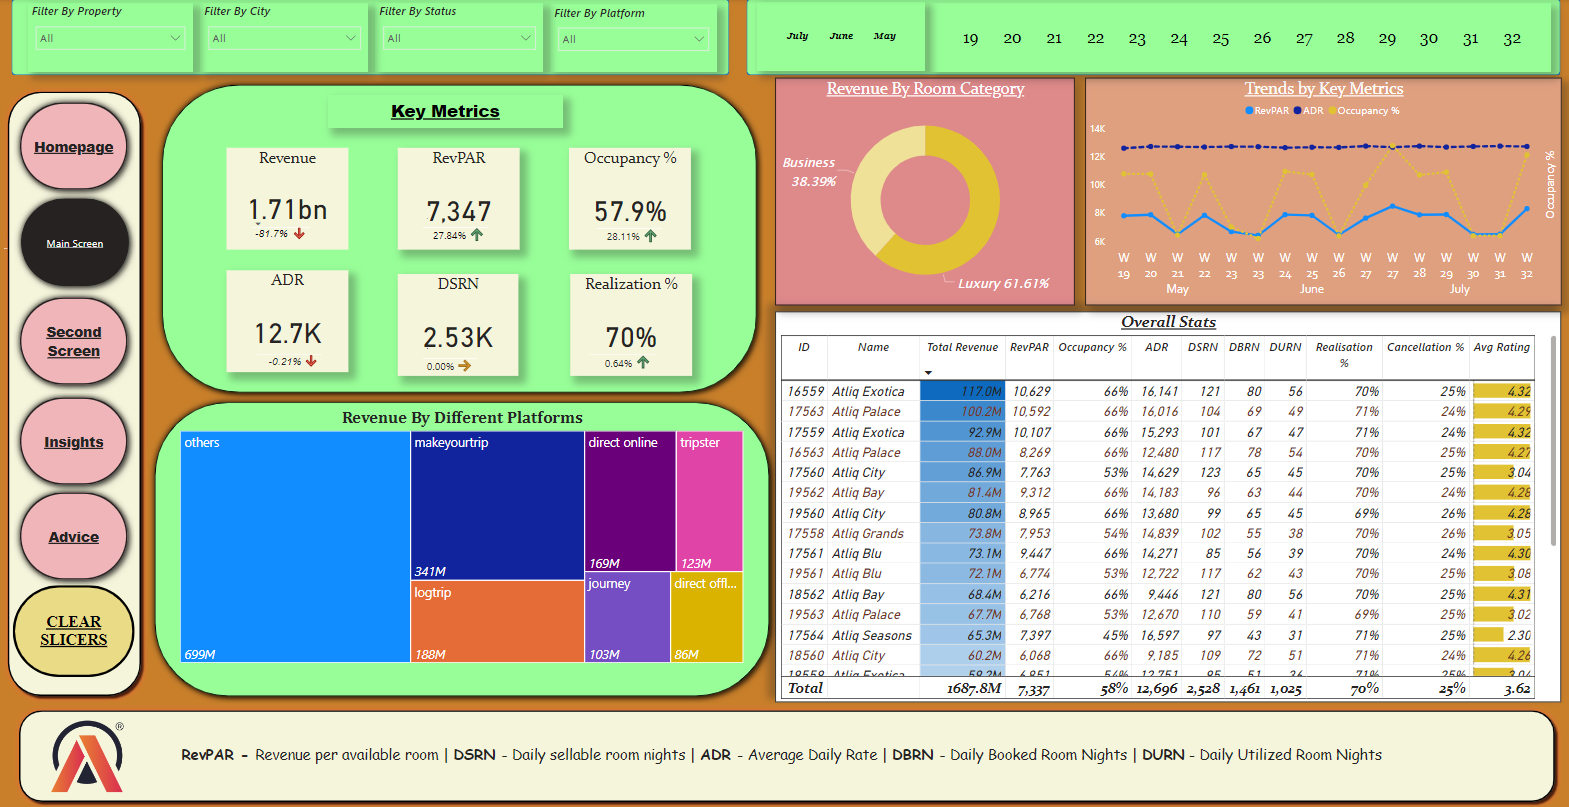

This screenshot's page, from the dashboard's own definition file:
{"tool":"powerbi","page":{"name":"Main Screen","canvas":[2010,1035],"ordinal":1},"visuals":[{"type":"slicer","title":"Filter By City","fields":{"Values":["dim_hotels.city"]},"box":[257.1,5.5,215.3,88.3],"z":0,"group":"g2"},{"type":"tableEx","title":"Overall Stats","fields":{"Values":["dim_hotels.property_id","dim_hotels.property_name","Key Measures.Total Revenue","Key Measures.RevPAR","Key Measures.Occupancy %","Key Measures.ADR","Key Measures.DSRN","Key Measures.DBRM","Key Measures.DURN","Key Measures.Realisation %","Key Measures.Cancellation %","Key Measures.Avg Rating"]},"box":[994.1,400.5,1005.3,500.3],"z":0,"group":"g3"},{"type":"slicer","title":"Filter By Property","fields":{"Values":["dim_hotels.property_name"]},"box":[36.8,5.5,211.7,88.3],"z":1000,"group":"g2"},{"type":"tableEx","title":"Revenue WoW change %","fields":{"Values":["Key Measures.Occupancy WoW change %"]},"box":[0,292.6,104.6,72.4],"z":1000,"group":"g3"},{"type":"slicer","title":"Filter By Status","fields":{"Values":["fact_bookings.booking_status"]},"box":[481,5.5,215.3,88.3],"z":2000,"group":"g2"},{"type":"tableEx","title":"Revenue WoW change %","fields":{"Values":["Key Measures.Occupancy WoW change %"]},"box":[69.2,485.8,104.6,72.4],"z":2000,"group":"g3"},{"type":"slicer","title":"Filter By Platform","fields":{"Values":["fact_bookings.booking_platform"]},"box":[704.9,7.3,213.5,86.5],"z":3000,"group":"g2"},{"type":"tableEx","title":"Revenue WoW change %","fields":{"Values":["Key Measures.ADR WoW change %"]},"box":[271.8,400.5,104.6,74],"z":3000,"group":"g3"},{"type":"shape","box":[3.2,111,186.6,789.8],"z":4000,"group":"g3"},{"type":"shape","box":[199.5,101.3,778.5,411.8],"z":5000,"group":"g3"},{"type":"card","title":"Revenue","fields":{"Values":["Key Measures.Total Revenue"]},"box":[291.2,189.8,156,130],"z":6000,"group":"g3"},{"type":"tableEx","title":"Revenue WoW change %","fields":{"Values":["Key Measures.Revenue WoW change %"]},"box":[316.9,265,104.6,74],"z":7000,"group":"g3"},{"type":"card","title":"RevPAR","fields":{"Values":["Key Measures.RevPAR"]},"box":[510.6,190.2,156,130.3],"z":8000,"group":"g3"},{"type":"card","title":"ADR","fields":{"Values":["Key Measures.ADR"]},"box":[291.1,346.8,156,130.3],"z":9000,"group":"g3"},{"type":"tableEx","title":"Revenue WoW change %","fields":{"Values":["Key Measures.ADR WoW change %"]},"box":[323.8,429.1,104,73.6],"z":10000,"group":"g1"},{"type":"actionButton","box":[17.7,749.6,156,117.4],"z":10000,"group":"g3"},{"type":"tableEx","title":"Revenue WoW change %","fields":{"Values":["Key Measures.Revpar WoW change %"]},"box":[535.6,265,104.6,74],"z":11000,"group":"g3"},{"type":"card","title":"Occupancy %","fields":{"Values":["Key Measures.Occupancy %"]},"box":[730,189.8,156,130.3],"z":12000,"group":"g3"},{"type":"tableEx","title":"Revenue WoW change %","fields":{"Values":["Key Measures.Occupancy WoW change %"]},"box":[757.6,266.6,104.6,72.4],"z":13000,"group":"g3"},{"type":"group","id":"g1","title":"Group 1","box":[323.8,429.1,104,73.6],"z":14000,"group":"g3"},{"type":"card","title":"DSRN","fields":{"Values":["Key Measures.DSRN"]},"box":[510.1,351.9,154.4,130.3],"z":15000,"group":"g3"},{"type":"tableEx","fields":{"Values":["Key Measures.DSRN WoW change %"]},"box":[535.6,429.1,104.6,72.4],"z":16000,"group":"g3"},{"type":"card","title":"Realization %","fields":{"Values":["Key Measures.Realisation %"]},"box":[730.3,351.9,156,130.3],"z":17000,"group":"g3"},{"type":"tableEx","title":"Revenue WoW change %","fields":{"Values":["Key Measures.Realisation WoW change %"]},"box":[748,429.1,104.6,74],"z":18000,"group":"g3"},{"type":"pageNavigator","box":[17.7,123.9,156,130],"z":19000,"group":"g3"},{"type":"shape","box":[189.8,506.7,804.3,394.1],"z":20000,"group":"g3"},{"type":"treemap","title":"Revenue By Different Platforms","fields":{"Group":["fact_bookings.booking_platform"],"Values":["Key Measures.Total Revenue"]},"box":[226.8,522.8,730.3,331.4],"z":21000,"group":"g3"},{"type":"donutChart","title":"Revenue By Room Category","fields":{"Y":["Key Measures.Total Revenue"],"Category":["dim_hotels.category"]},"box":[994.1,101.3,382.8,291.1],"z":22000,"group":"g3"},{"type":"lineChart","title":"Trends by Key Metrics","fields":{"Y":["Key Measures.RevPAR","Key Measures.ADR"],"Y2":["Key Measures.Occupancy %"],"Category":["dim_date.mmm yy.Variation.Date Hierarchy.Month","dim_date.week no"]},"box":[1389.8,101.3,609.6,291.1],"z":23000,"group":"g3"},{"type":"shape","box":[16.6,0,918.5,97.6],"z":24000,"group":"g3"},{"type":"group","id":"g2","title":"Group 2","box":[36.8,5.5,881.6,88.3],"z":25000,"group":"g3"},{"type":"shape","box":[957.1,0,1041.8,97.6],"z":26000,"group":"g3"},{"type":"slicer","title":"Filter By Week","fields":{"Values":["dim_date.wn"]},"box":[1191.9,4.8,794.6,88.5],"z":27000,"group":"g3"},{"type":"slicer","title":"Filter By Month","fields":{"Values":["dim_date.Month_Name"]},"box":[969.9,3.2,215.5,88.5],"z":28000,"group":"g3"},{"type":"textbox","box":[421.4,123.9,300.8,41.8],"z":29000,"group":"g3"},{"type":"shape","box":[17.3,901.5,1981.6,133.5],"z":30000,"group":"g3"},{"type":"image","box":[53.7,917.1,119.6,104],"z":31000,"group":"g3"},{"type":"textbox","box":[199.4,948.3,1595,48.5],"z":32000,"group":"g3"},{"type":"pageNavigator","box":[17.3,372.7,156,130],"z":33000,"group":"g3"},{"type":"pageNavigator","box":[19.1,246.2,156,130],"z":34000,"group":"g3"},{"type":"pageNavigator","box":[17.3,501,156,130],"z":35000,"group":"g3"},{"type":"pageNavigator","box":[17.3,622.4,156,130],"z":36000,"group":"g3"},{"type":"group","id":"g3","title":"Group 3","box":[0,0,1999.4,1035],"z":36001}]}

Visuals, with their boxes in screenshot pixels (x1, y1, x2, y2), scaled from the page's 2010x1035 canvas onto the 1569x807 screenshot:
"Filter By City" slicer: l=201, t=4, r=369, b=73
"Overall Stats" tableEx: l=776, t=312, r=1561, b=702
"Filter By Property" slicer: l=29, t=4, r=194, b=73
"Revenue WoW change %" tableEx: l=0, t=228, r=82, b=285
"Filter By Status" slicer: l=375, t=4, r=544, b=73
"Revenue WoW change %" tableEx: l=54, t=379, r=136, b=435
"Filter By Platform" slicer: l=550, t=6, r=717, b=73
"Revenue WoW change %" tableEx: l=212, t=312, r=294, b=370
shape: l=2, t=87, r=148, b=702
shape: l=156, t=79, r=763, b=400
"Revenue" card: l=227, t=148, r=349, b=249
"Revenue WoW change %" tableEx: l=247, t=207, r=329, b=264
"RevPAR" card: l=399, t=148, r=520, b=250
"ADR" card: l=227, t=270, r=349, b=372
"Revenue WoW change %" tableEx: l=253, t=335, r=334, b=392
actionButton: l=14, t=584, r=136, b=676
"Revenue WoW change %" tableEx: l=418, t=207, r=500, b=264
"Occupancy %" card: l=570, t=148, r=692, b=250
"Revenue WoW change %" tableEx: l=591, t=208, r=673, b=264
"Group 1" group: l=253, t=335, r=334, b=392
"DSRN" card: l=398, t=274, r=519, b=376
tableEx - Key Measures.DSRN WoW change %: l=418, t=335, r=500, b=391
"Realization %" card: l=570, t=274, r=692, b=376
"Revenue WoW change %" tableEx: l=584, t=335, r=666, b=392
pageNavigator: l=14, t=97, r=136, b=198
shape: l=148, t=395, r=776, b=702
"Revenue By Different Platforms" treemap: l=177, t=408, r=747, b=666
"Revenue By Room Category" donutChart: l=776, t=79, r=1075, b=306
"Trends by Key Metrics" lineChart: l=1085, t=79, r=1561, b=306
shape: l=13, t=0, r=730, b=76
"Group 2" group: l=29, t=4, r=717, b=73
shape: l=747, t=0, r=1560, b=76
"Filter By Week" slicer: l=930, t=4, r=1551, b=73
"Filter By Month" slicer: l=757, t=2, r=925, b=71
textbox: l=329, t=97, r=564, b=129
shape: l=14, t=703, r=1560, b=806
image: l=42, t=715, r=135, b=796
textbox: l=156, t=739, r=1401, b=777
pageNavigator: l=14, t=291, r=135, b=392
pageNavigator: l=15, t=192, r=137, b=293
pageNavigator: l=14, t=391, r=135, b=492
pageNavigator: l=14, t=485, r=135, b=587
"Group 3" group: l=0, t=0, r=1561, b=806
